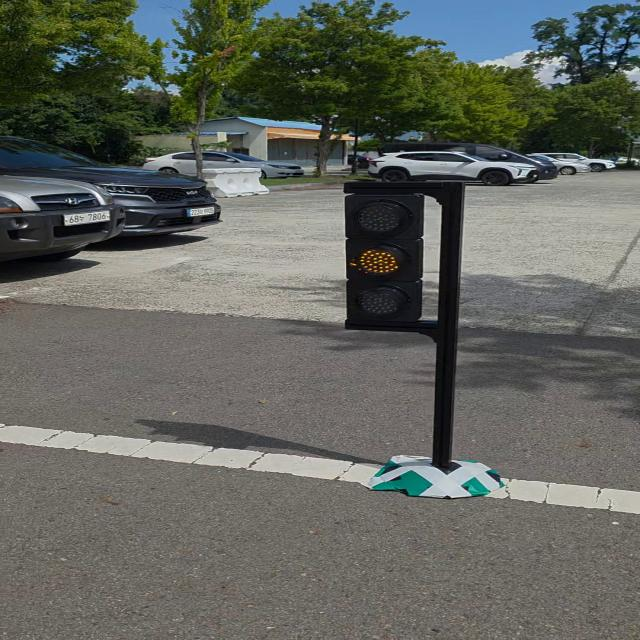yellow: (330, 188, 436, 328)
